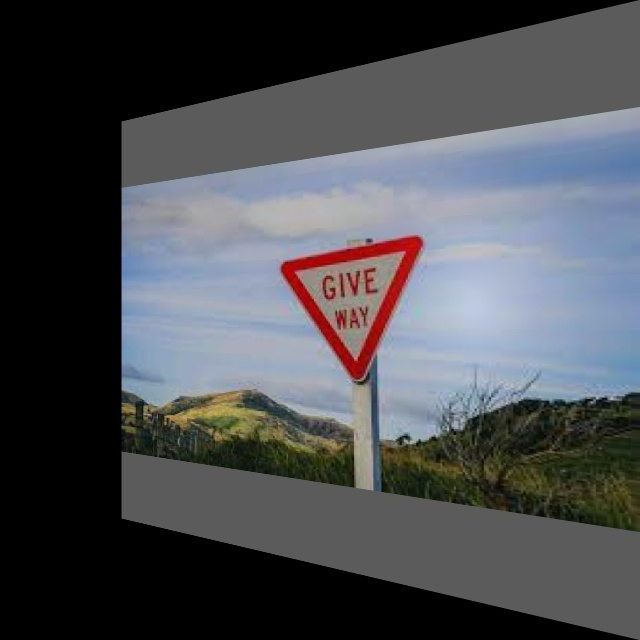Give_Way: (281, 238, 427, 381)
